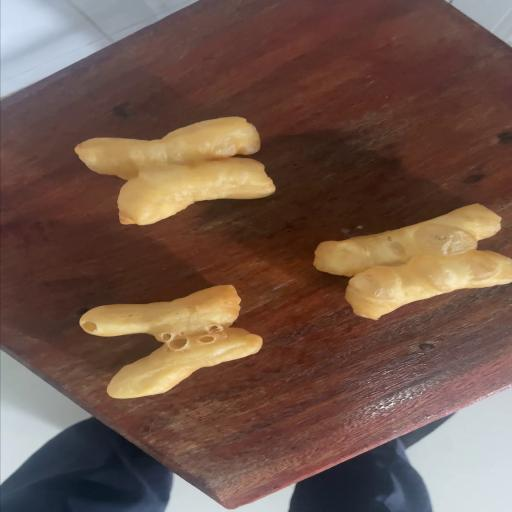street_golden_defect: (313, 204, 510, 318), (79, 286, 262, 397)
street_golden_good: (74, 118, 274, 223)
